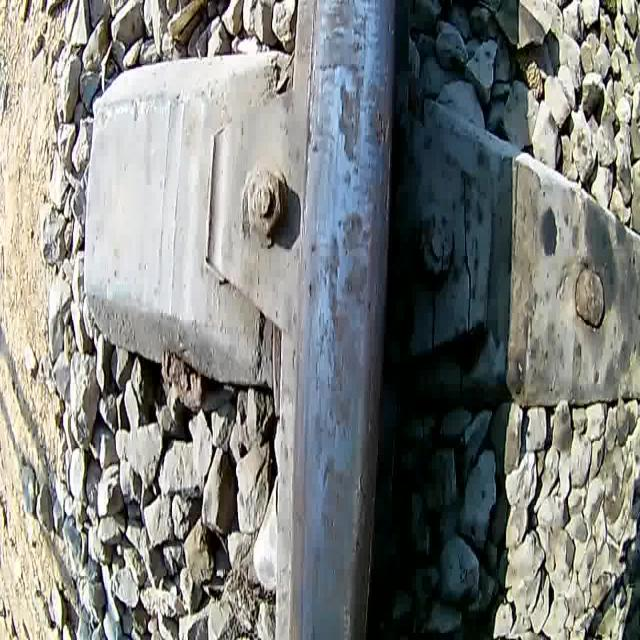Spallings: (372, 102, 392, 160)
Squats: (319, 201, 376, 440), (311, 0, 371, 77), (320, 447, 361, 552), (334, 79, 362, 170)
